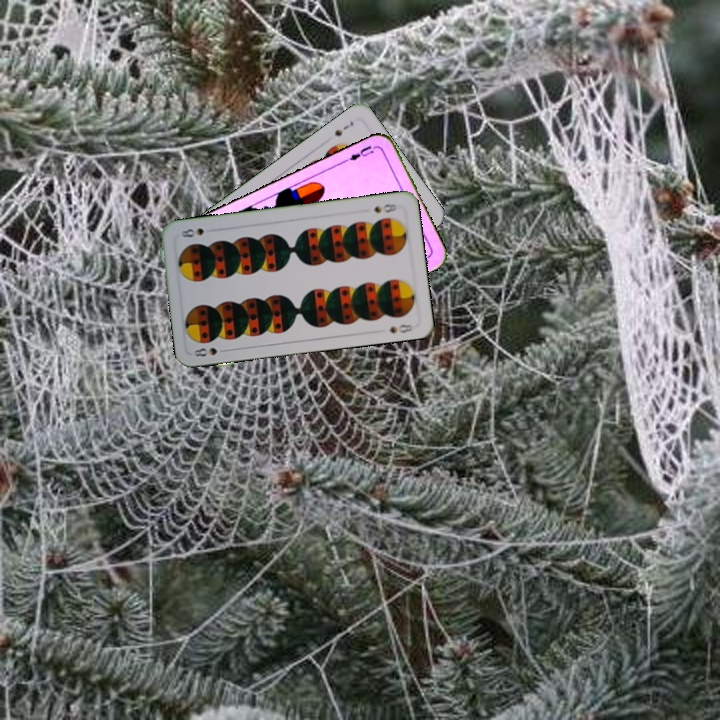EU: (341, 141, 379, 164)
S7: (330, 117, 356, 139)
S8: (190, 343, 230, 359), (370, 200, 399, 215)
